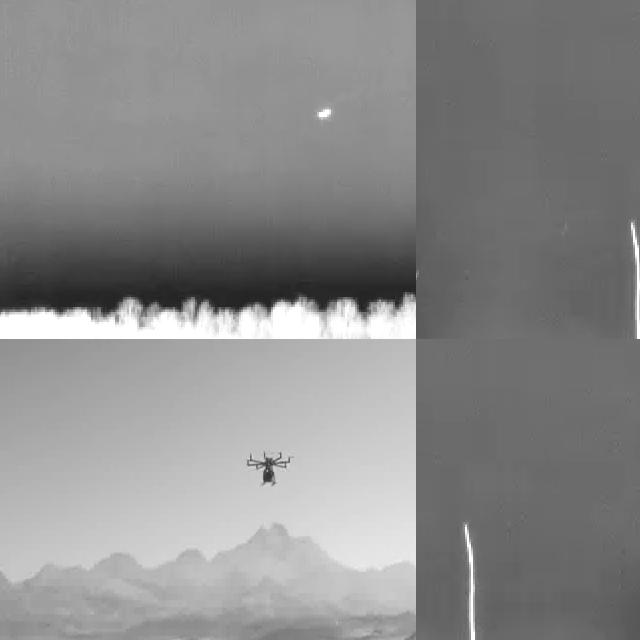0: (553, 220, 579, 248)
1: (309, 101, 345, 131)
drone: (245, 444, 292, 488)
